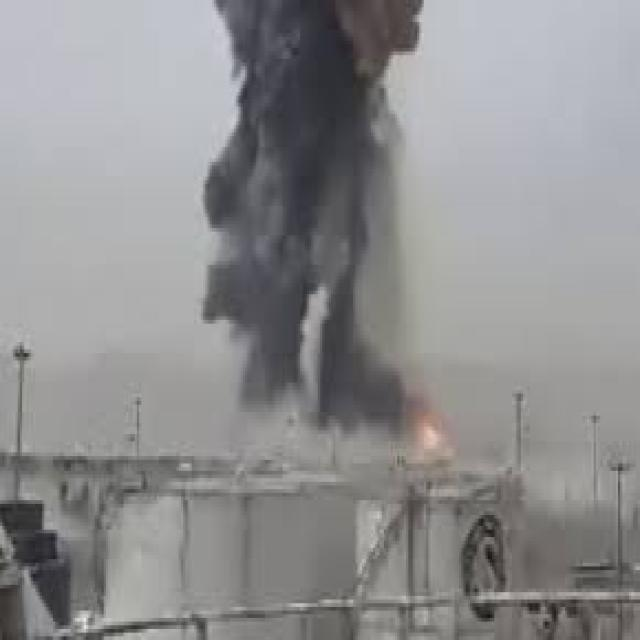explosion: (207, 0, 531, 494)
